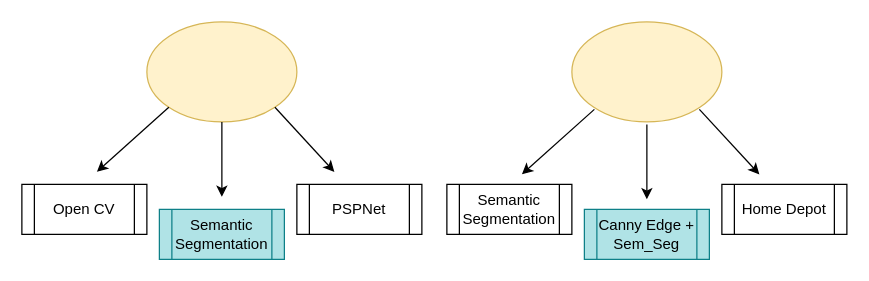
This 869x281 diagram has some shape labels left out. The centre of each missing label's shape, as x and y in pixels:
"Experiment 1: Best Segmentation Model" belongs at [221,71].
"Experiment 2: Best Wall Painting Model" belongs at [646,71].
